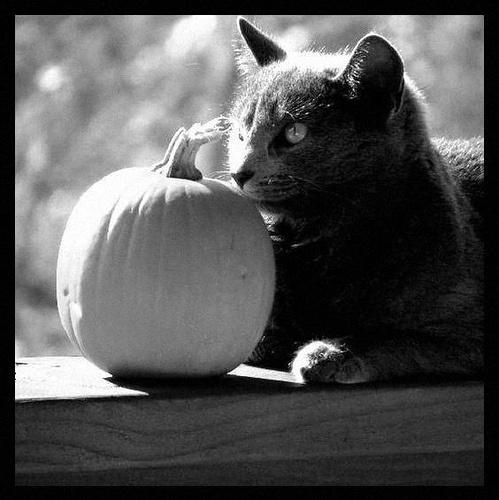cat: (229, 17, 499, 385)
